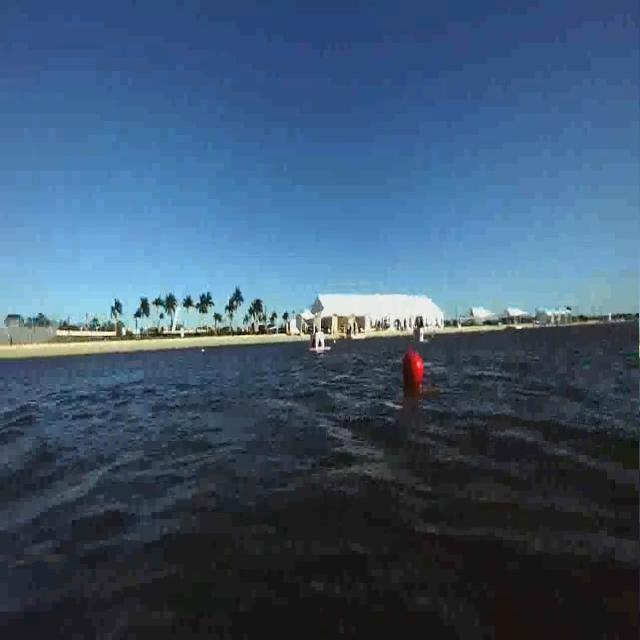red-buoy: (403, 349, 425, 387)
